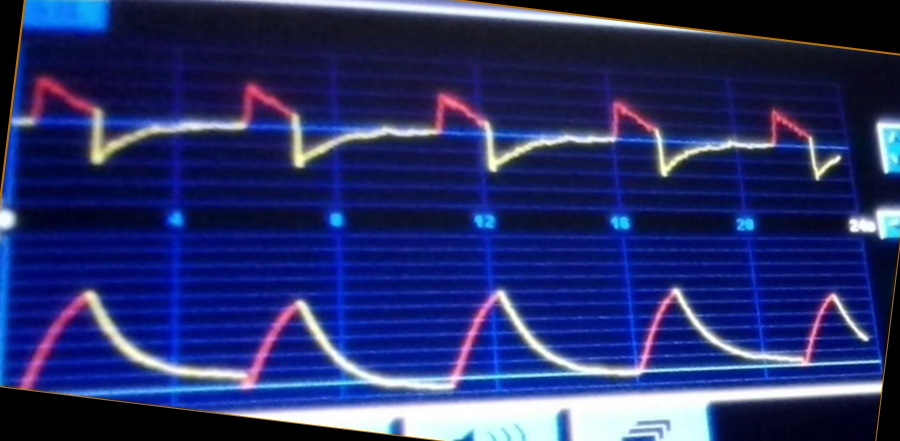Accumulation Flow: (17, 67, 846, 195)
Volume: (18, 277, 867, 396)
